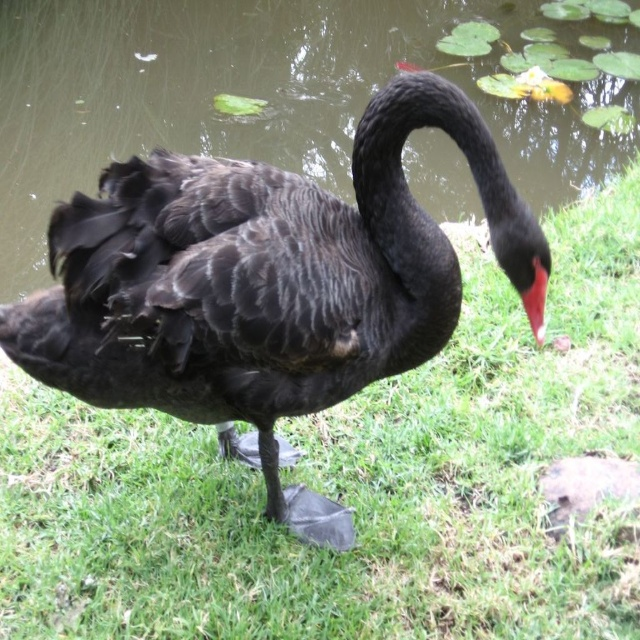Swan: (0, 69, 552, 551)
